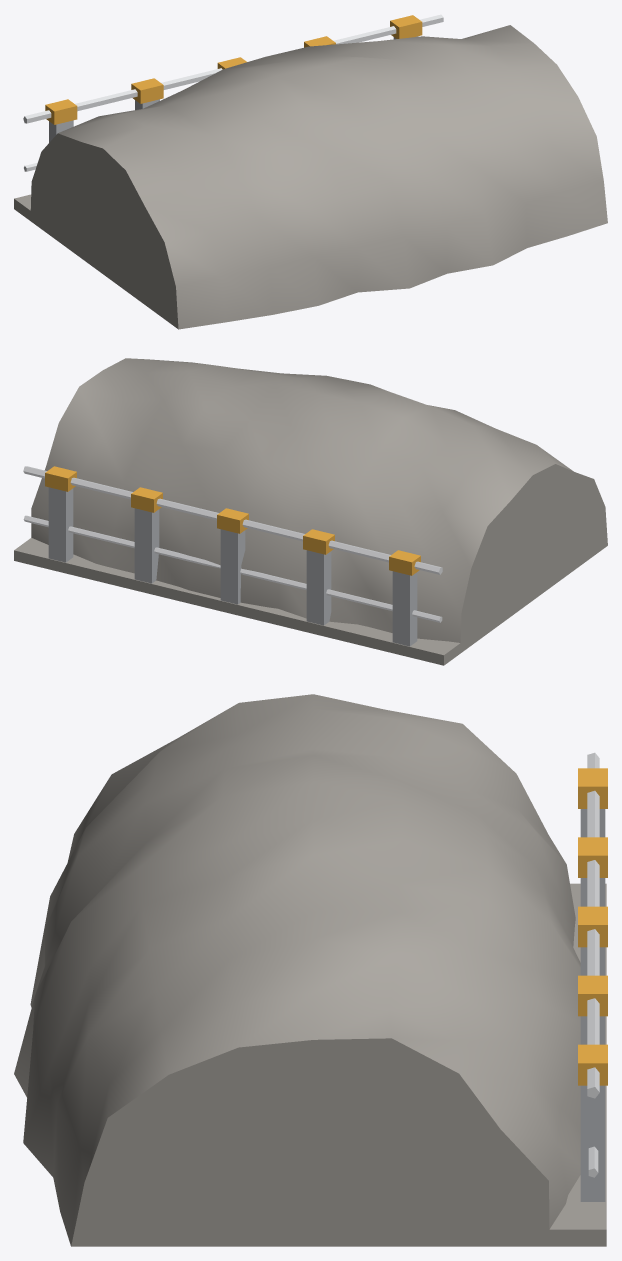
The model's file is blast-berm-segment-6e0ba7b3.glb.
3 views of the same model, one above another, from view 1: azimuth 30°, elevation 25°; view 2: azimuth 150°, elevation 25°; view 3: azimuth 270°, elevation 25° (orthographic). The views are drawn at different scales.
Visible parts, largest first — view 1: blast-berm-segment; view 2: blast-berm-segment; view 3: blast-berm-segment.
Part boxes in pixels (left/top/right/bottom): blast-berm-segment: left=14, top=14, right=607, bottom=329; blast-berm-segment: left=14, top=358, right=607, bottom=665; blast-berm-segment: left=14, top=694, right=607, bottom=1246.
Size of the model in its own units: 6 by 2.08 by 4.36.
